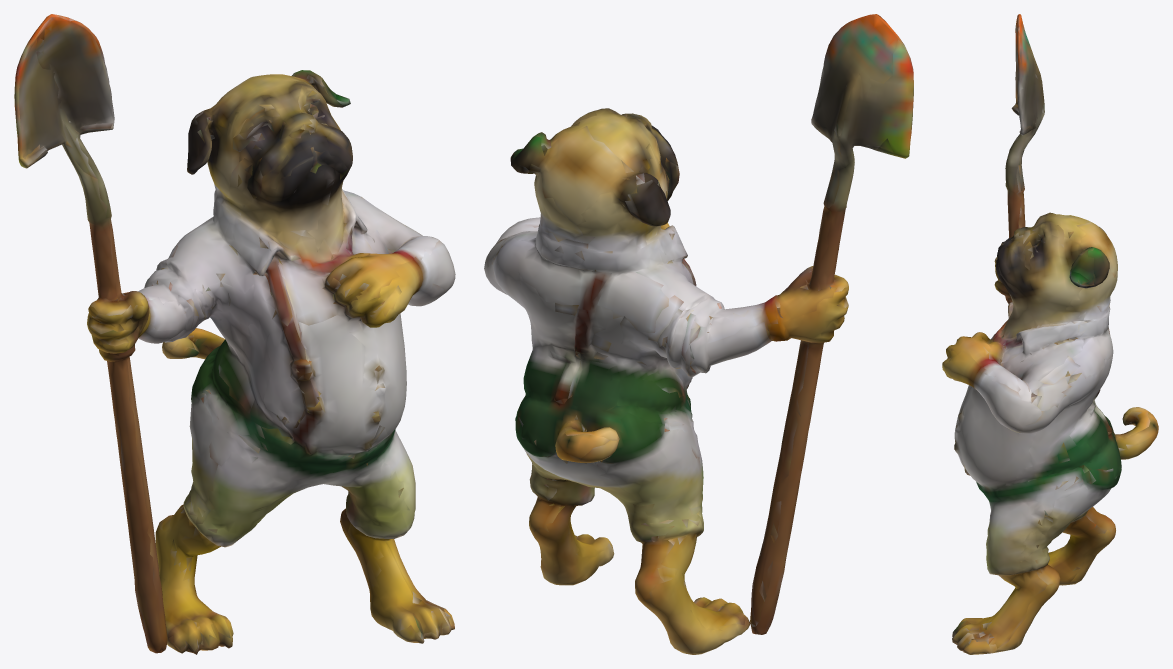
Rendered from Shoony_final.glb.
3 views of the same model, side by side, from view 1: azimuth 30°, elevation 25°; view 2: azimuth 150°, elevation 25°; view 3: azimuth 270°, elevation 25° (orthographic). The views are drawn at different scales.
Visible parts, largest first — view 1: Mesh1.0; view 2: Mesh1.0; view 3: Mesh1.0.
Boxes of the visible parts, x1,y1,x2,y2 form: Mesh1.0: (14,14,455,654); Mesh1.0: (484,14,913,654); Mesh1.0: (942,14,1158,654).
Size of the model in its own units: 1.35 by 2 by 0.7737.
1 material, 1 textured.
